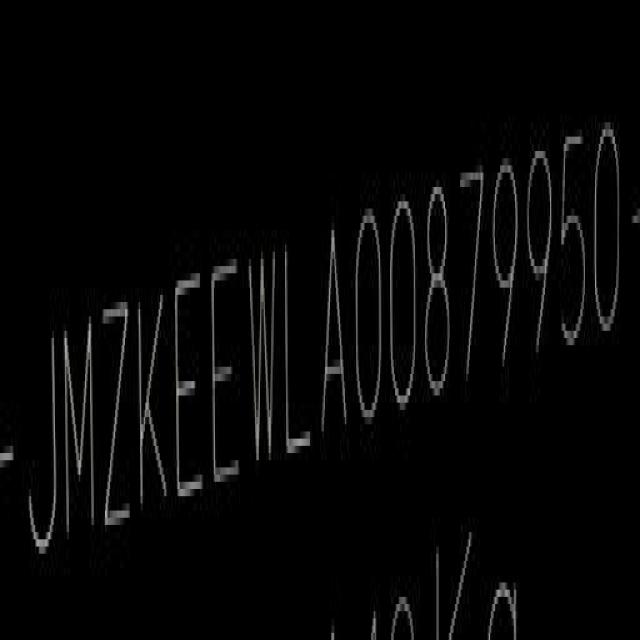0: (354, 197, 384, 435), (593, 116, 623, 347), (392, 191, 418, 420)
5: (557, 121, 585, 358)
7: (458, 160, 484, 395)
8: (425, 173, 451, 403)
9: (492, 149, 522, 385), (526, 140, 554, 375)
A: (320, 227, 348, 451)
E: (209, 253, 243, 497), (176, 266, 206, 509)
J: (27, 317, 60, 575)
K: (136, 282, 167, 522)
L: (286, 238, 316, 468)
M: (62, 313, 94, 552), (247, 239, 278, 480)
Z: (101, 293, 134, 559)
